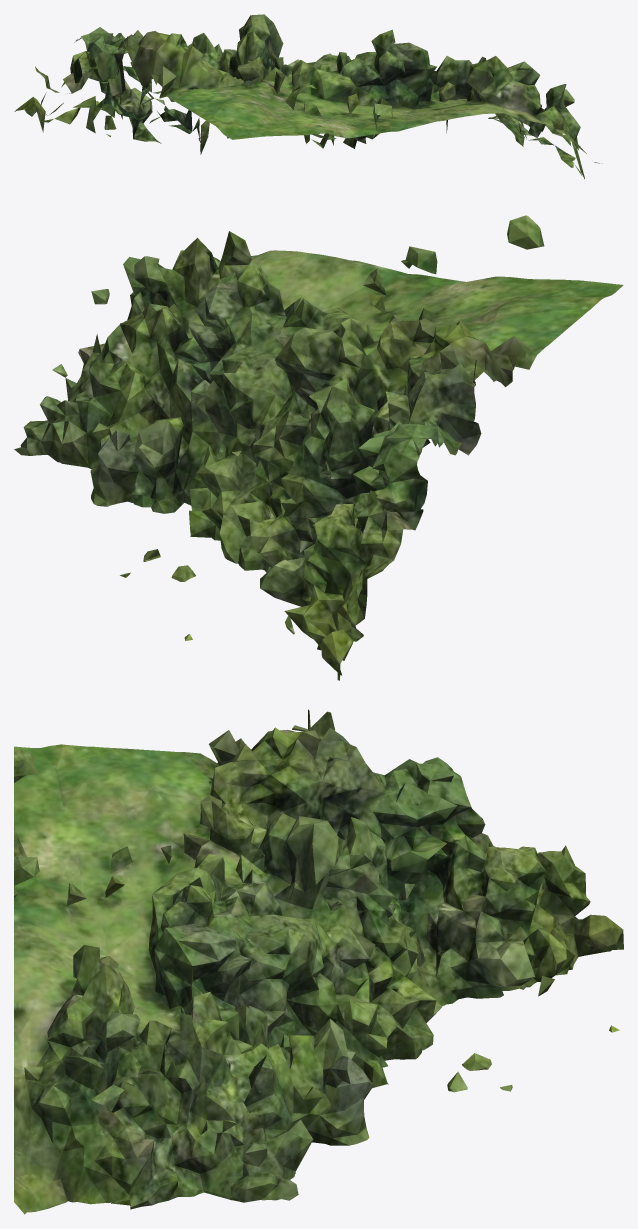
3 renders of one model, top to bottom at view 1: azimuth 30°, elevation 25°; view 2: azimuth 150°, elevation 25°; view 3: azimuth 270°, elevation 25°, orthographic. The views are drawn at different scales.
Bounding box in the file's own units: 104 × 45.97 × 101.
4 materials, 4 textured.
